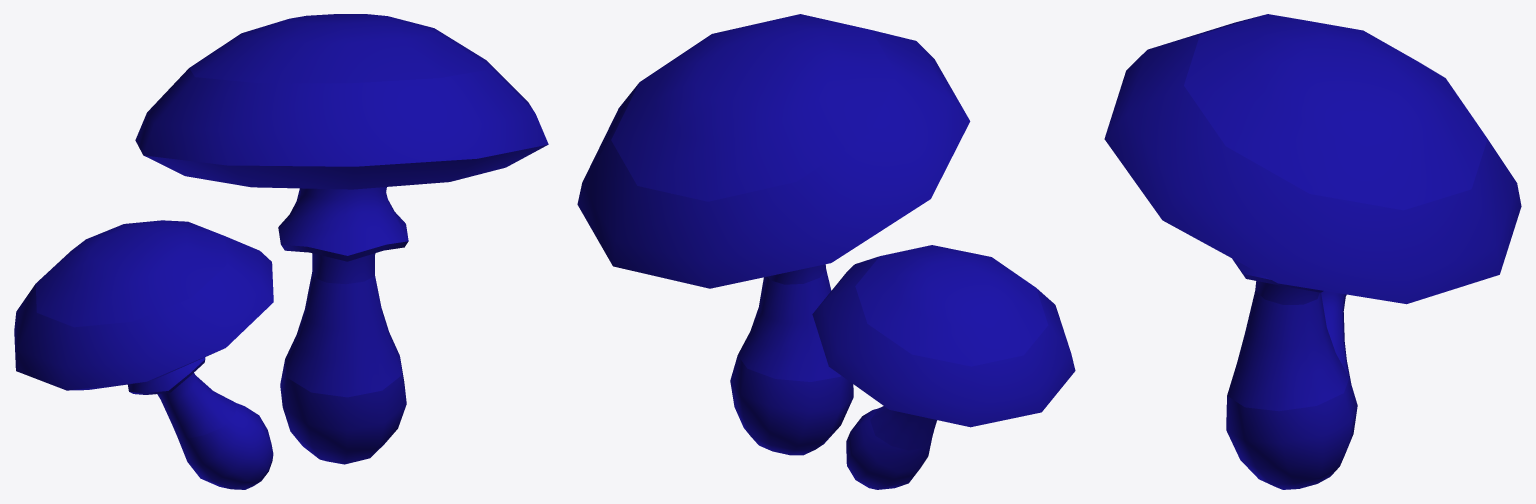
File: SM_Cut_BrownCap_01.fbx
3 renders of one model, left to right at view 1: azimuth 30°, elevation 25°; view 2: azimuth 150°, elevation 25°; view 3: azimuth 270°, elevation 25°, orthographic. The views are drawn at different scales.
Parts seen in each view (by area): view 1: SM_Piece_008, SM_Piece_007, SM_Piece_003, SM_Piece_006, SM_Piece_001, SM_Piece_002, SM_Piece_000, SM_Piece_004, SM_Piece_005; view 2: SM_Piece_008, SM_Piece_003, SM_Piece_007, SM_Piece_006, SM_Piece_000, SM_Piece_001, SM_Piece_004, SM_Piece_005, SM_Piece_002; view 3: SM_Piece_008, SM_Piece_003, SM_Piece_001, SM_Piece_000, SM_Piece_002, SM_Piece_005.
Boxes of the visible parts, x1=… form: SM_Piece_008: x1=135, y1=60, x2=548, y2=189; SM_Piece_007: x1=14, y1=236, x2=273, y2=390; SM_Piece_003: x1=189, y1=14, x2=491, y2=83; SM_Piece_006: x1=35, y1=220, x2=226, y2=327; SM_Piece_001: x1=285, y1=271, x2=402, y2=397; SM_Piece_002: x1=278, y1=187, x2=408, y2=284; SM_Piece_000: x1=280, y1=359, x2=406, y2=464; SM_Piece_004: x1=177, y1=403, x2=273, y2=489; SM_Piece_005: x1=128, y1=357, x2=236, y2=438; SM_Piece_008: x1=577, y1=30, x2=970, y2=288; SM_Piece_003: x1=611, y1=14, x2=897, y2=201; SM_Piece_007: x1=812, y1=256, x2=1075, y2=427; SM_Piece_006: x1=855, y1=245, x2=1048, y2=366; SM_Piece_000: x1=730, y1=355, x2=853, y2=455; SM_Piece_001: x1=738, y1=269, x2=841, y2=381; SM_Piece_004: x1=846, y1=408, x2=931, y2=489; SM_Piece_005: x1=870, y1=406, x2=936, y2=450; SM_Piece_002: x1=768, y1=264, x2=825, y2=284; SM_Piece_008: x1=1104, y1=15, x2=1521, y2=304; SM_Piece_003: x1=1184, y1=14, x2=1487, y2=210; SM_Piece_001: x1=1227, y1=290, x2=1349, y2=411; SM_Piece_000: x1=1226, y1=378, x2=1357, y2=489; SM_Piece_002: x1=1232, y1=258, x2=1323, y2=304; SM_Piece_005: x1=1321, y1=291, x2=1346, y2=363.
Size of the model in its own units: 97.47 by 84.49 by 70.52.
